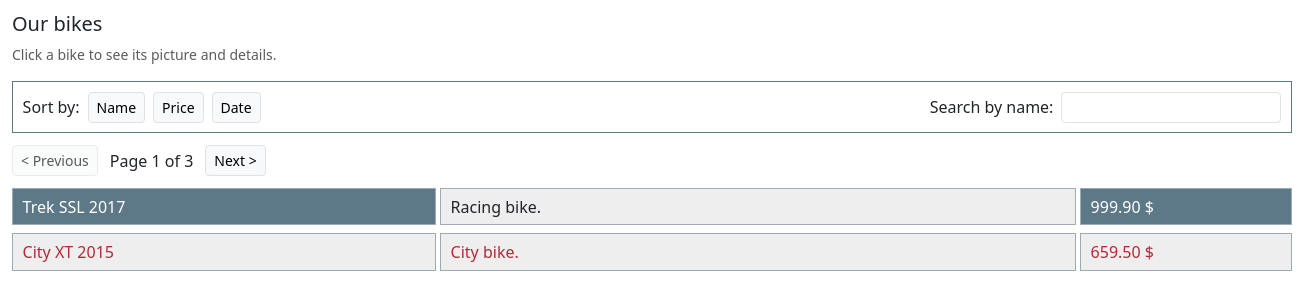
ProductList search › says so when nothing matches
Type "zzz" into the search field with test id "search" at (1171,107), box [1061,92,1281,123]
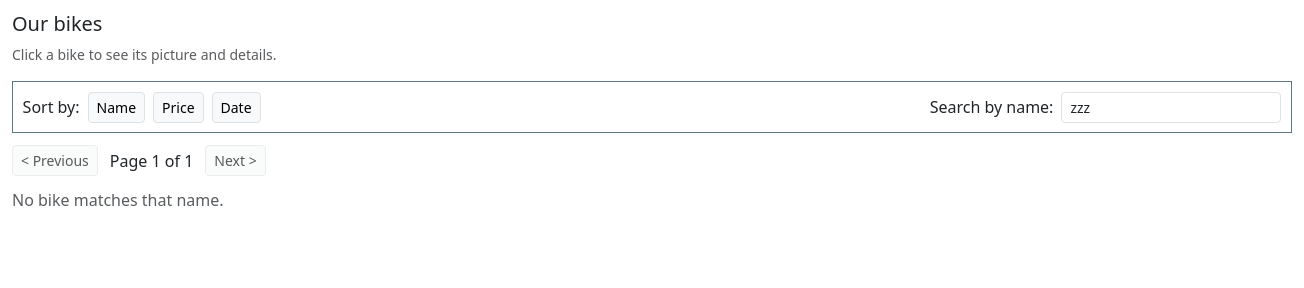
Result: no buttons with test id "product" are shown
Result: the text with test id "no-match" reads "No bike matches that name." at [12,189,224,211]
Result: the text with test id "page" reads "Page 1 of 1" at [110,150,193,172]
